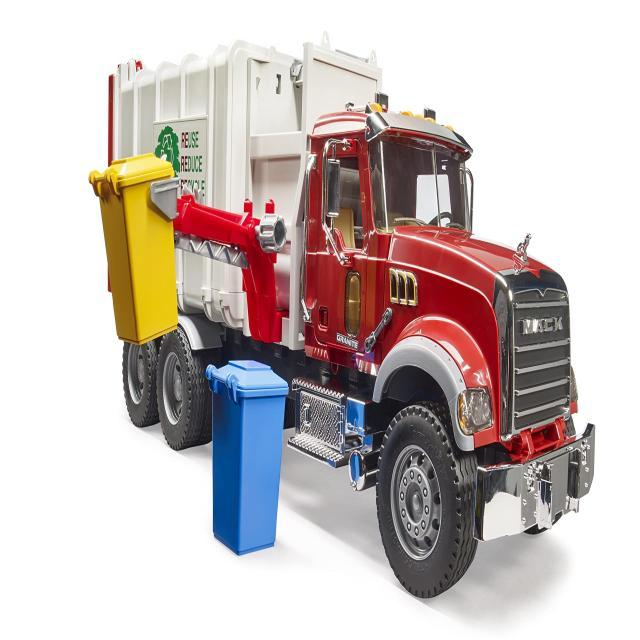traffic light: (89, 31, 595, 600)
